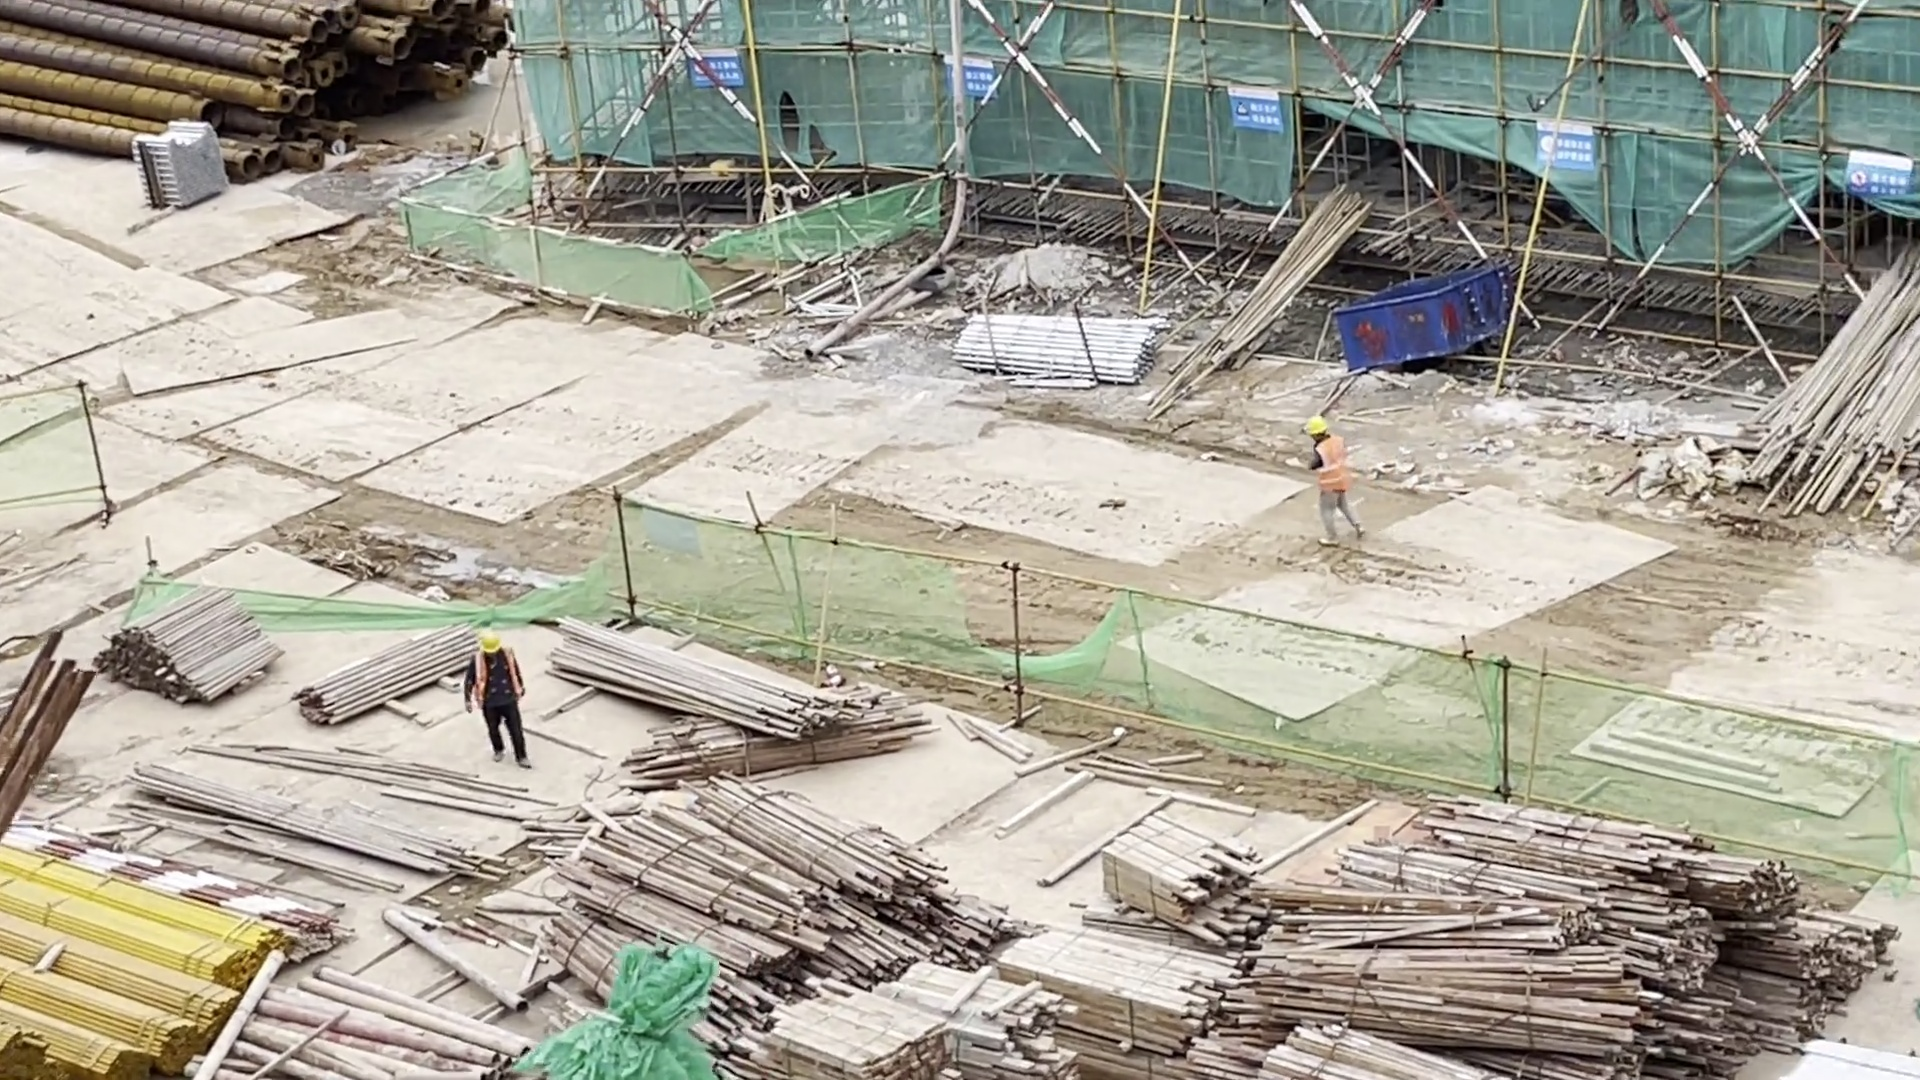brick: (131, 119, 233, 214)
helmet: (1301, 413, 1332, 436), (473, 632, 501, 654)
hopper: (1323, 274, 1523, 377)
person: (461, 629, 538, 774), (1295, 409, 1371, 549)
vest: (1312, 438, 1354, 495)
wood: (1284, 800, 1766, 1080), (986, 923, 1233, 1068), (746, 985, 1085, 1080), (1094, 805, 1264, 926)
